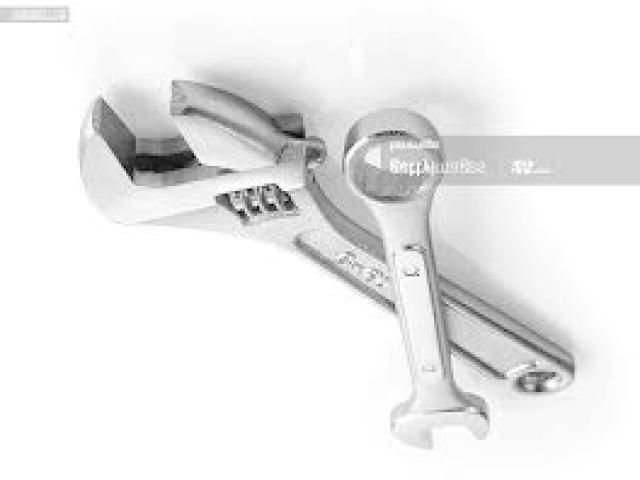Adjustable spanner: (76, 76, 574, 395)
Wrench: (344, 110, 489, 449)
